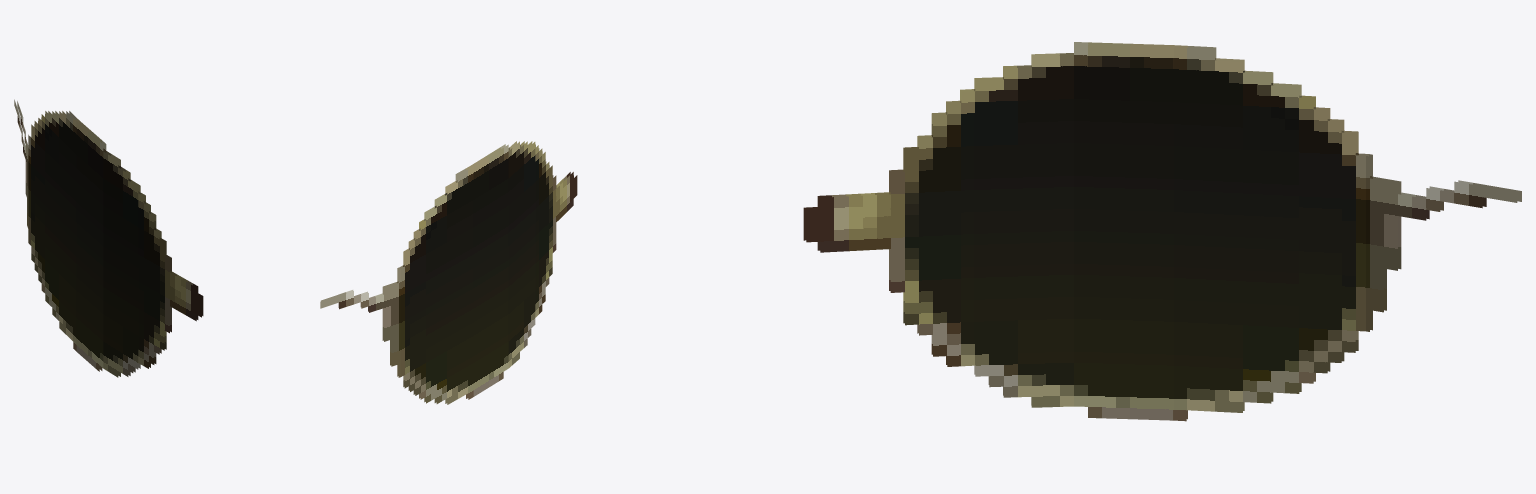
File: Chameleon_starGlasses.obj
3 renders of one model, left to right at view 1: azimuth 30°, elevation 25°; view 2: azimuth 150°, elevation 25°; view 3: azimuth 270°, elevation 25°, orthographic. The views are drawn at different scales.
Parts seen in each view (by area): view 1: Chameleon_starGlasses_tri; view 2: Chameleon_starGlasses_tri; view 3: Chameleon_starGlasses_tri.
Boxes of the visible parts, x1,y1,x2,y2 form: Chameleon_starGlasses_tri: (14,99,203,377); Chameleon_starGlasses_tri: (320,141,577,404); Chameleon_starGlasses_tri: (803,42,1521,421).
Bounding box in the file's own units: 0.0177 × 0.0876 × 0.167.
1 material, 1 textured.
